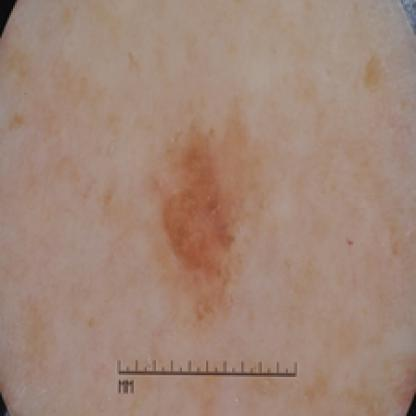malignant: (173, 128, 241, 286)
